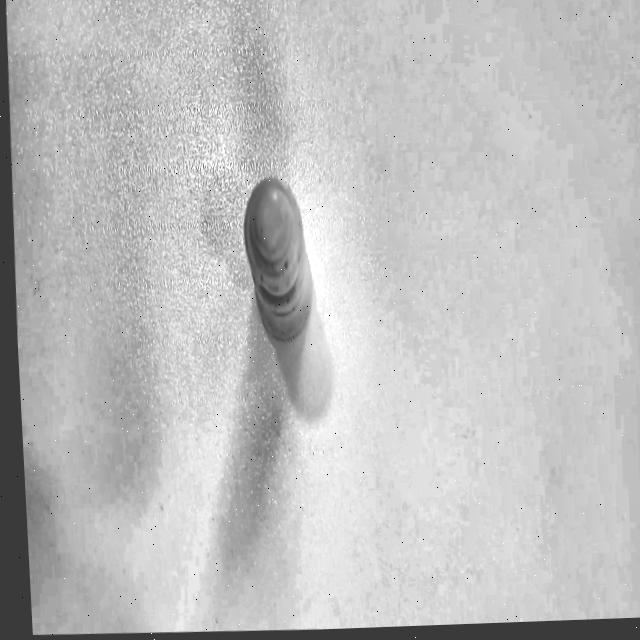white-queen: (226, 142, 339, 353)
